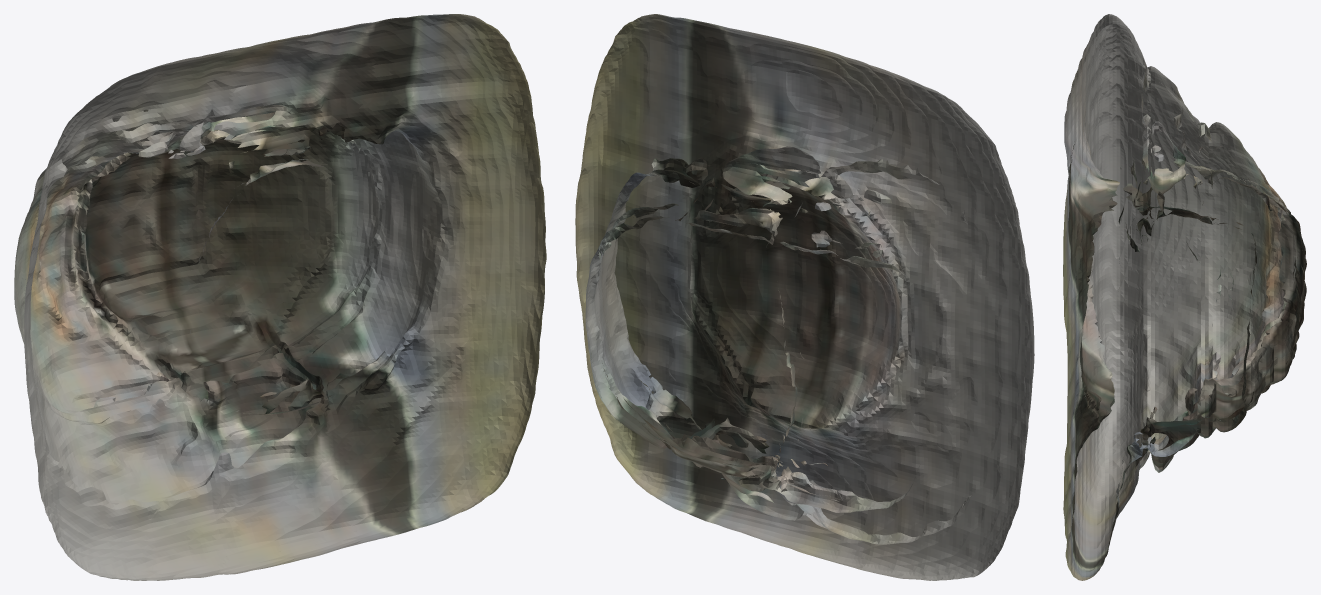
3 views of the same model, side by side, from view 1: azimuth 30°, elevation 25°; view 2: azimuth 150°, elevation 25°; view 3: azimuth 270°, elevation 25° (orthographic). The views are drawn at different scales.
Visible parts, largest first — view 1: world; view 2: world; view 3: world.
Boxes of the visible parts, x1,y1,x2,y2 form: world: [14, 14, 546, 580]; world: [575, 14, 1034, 580]; world: [1063, 14, 1306, 580].
Size of the model in its own units: 0.8776 by 0.8837 by 0.4335.
